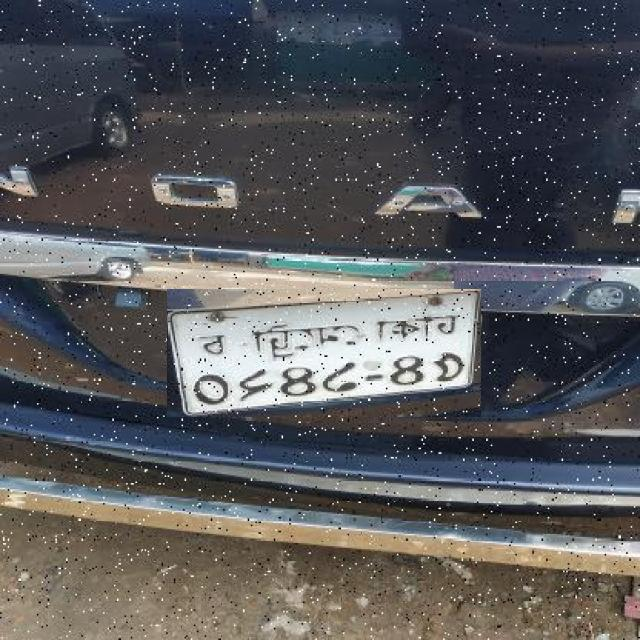numberplate: (168, 289, 482, 417)
